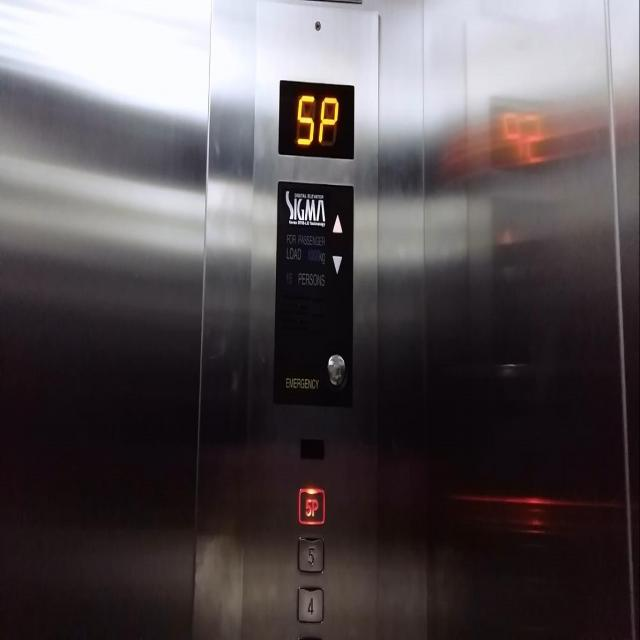4: (297, 582, 324, 624)
5: (296, 532, 324, 578)
5P: (297, 485, 325, 524)
alarm: (321, 348, 350, 387)
led: (276, 78, 354, 159)
